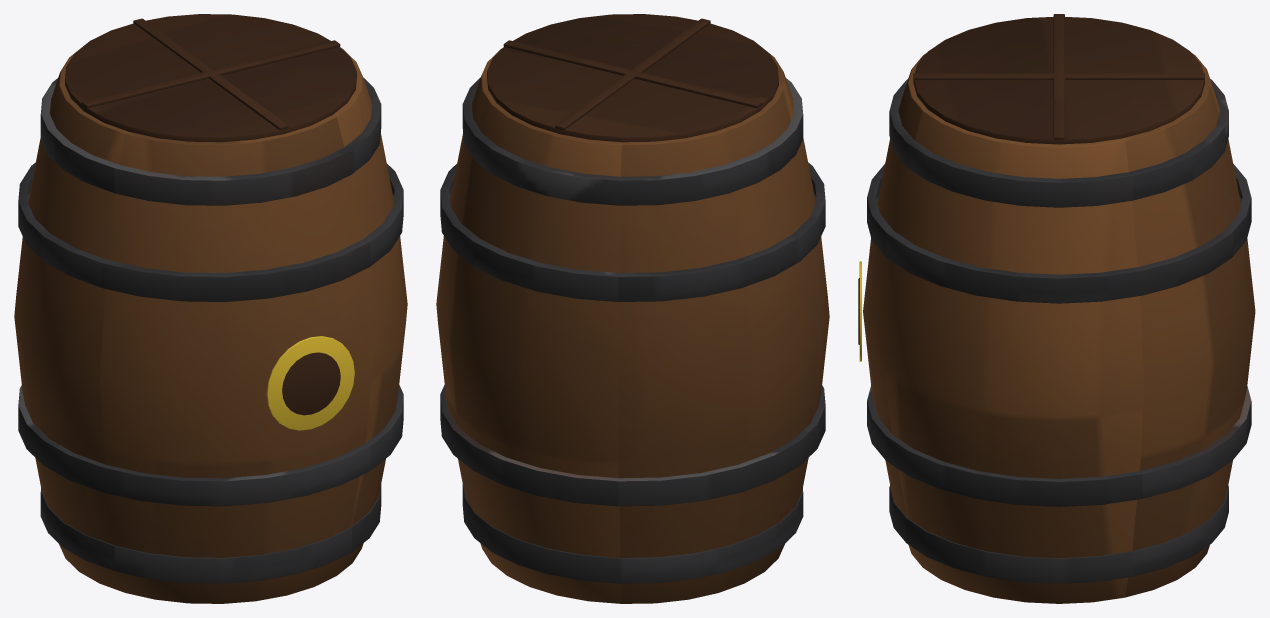
The model's file is prop_barrel.glb.
The picture shows the model from 3 angles, left to right: view 1: azimuth 30°, elevation 25°; view 2: azimuth 150°, elevation 25°; view 3: azimuth 270°, elevation 25°; orthographic projection.
Parts seen in each view (by area): view 1: prop_barrel; view 2: prop_barrel; view 3: prop_barrel.
Boxes of the visible parts, box(x1,y1,x2,y2) form: prop_barrel: box(14, 14, 407, 603); prop_barrel: box(436, 14, 829, 603); prop_barrel: box(858, 14, 1255, 603).
Size of the model in its own units: 0.7 by 0.915 by 0.708.
4 materials, 4 textured.
